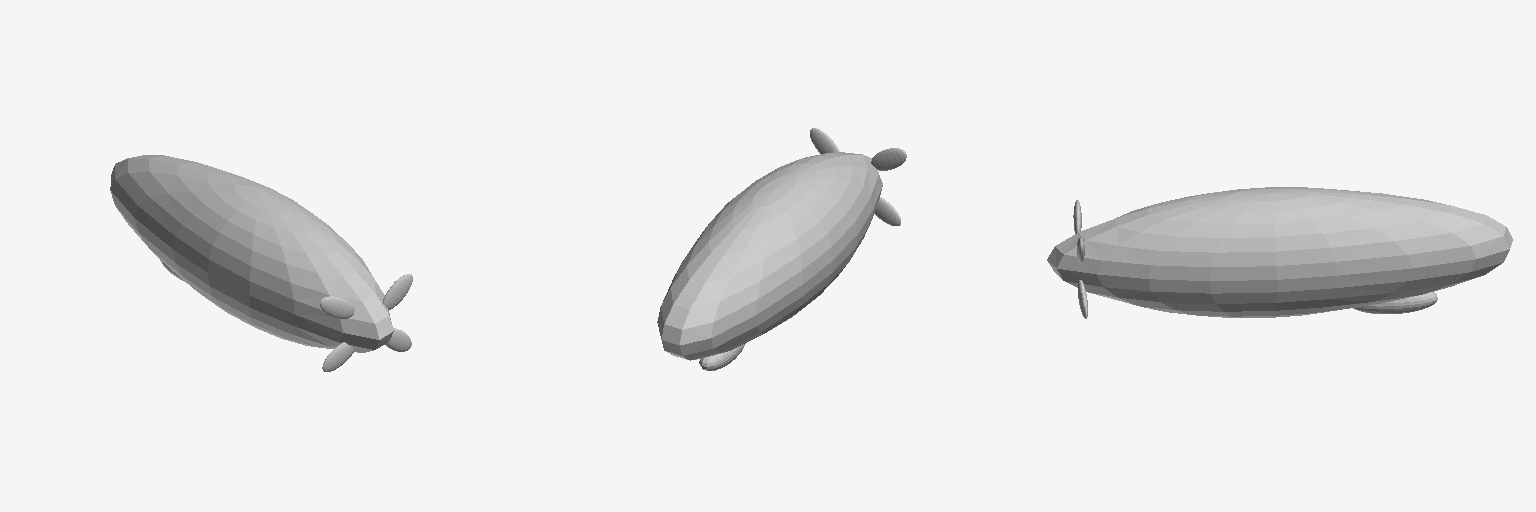
The model's file is zeplin.obj.
3 renders of one model, left to right at view 1: azimuth 30°, elevation 25°; view 2: azimuth 150°, elevation 25°; view 3: azimuth 270°, elevation 25°, orthographic.
Visible parts, largest first — view 1: Sphere; view 2: Sphere; view 3: Sphere.
Boxes of the visible parts, <box> form: Sphere: <box>110,155,412,371</box>; Sphere: <box>657,128,906,370</box>; Sphere: <box>1047,187,1512,318</box>.
Size of the model in its own units: 0.9467 by 0.9595 by 3.25.